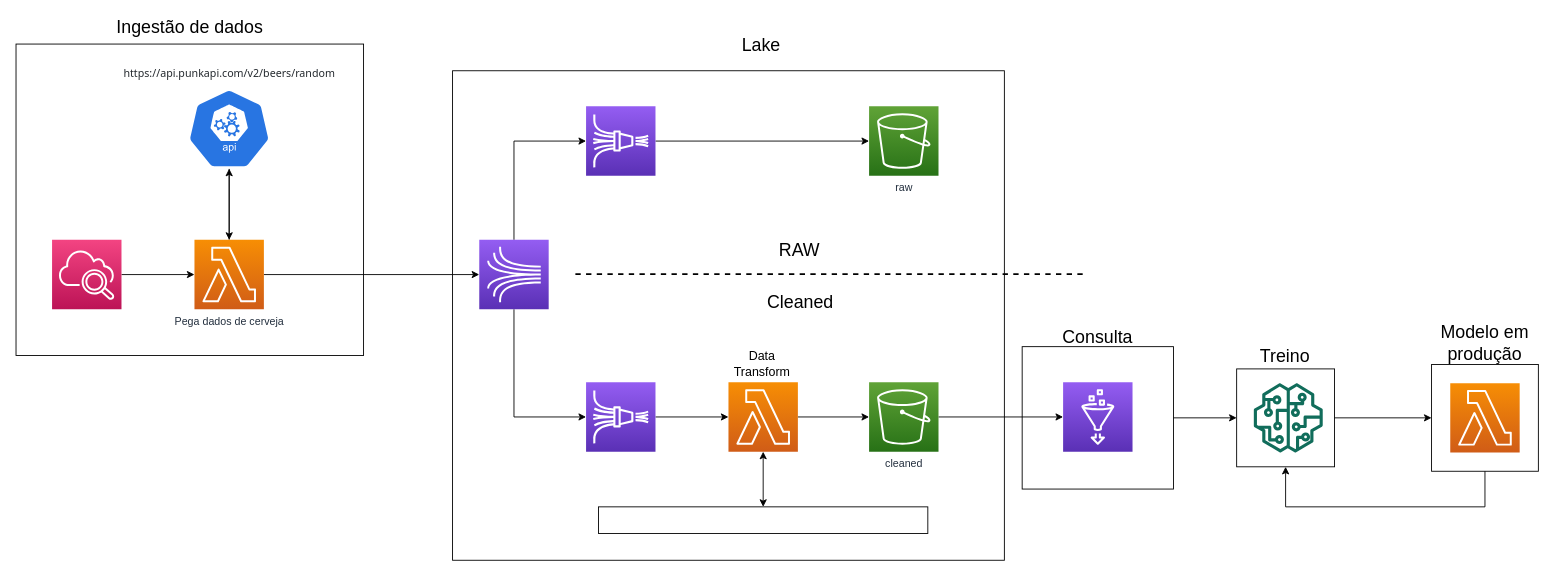
The diagram is 1554 pixels wide and 576 high, and some of its shapes have lost their labels. Each missing label, with the centre of its shape:
id , name , abv , ibu , target_fg , target_og , ebc , srm, ph: pixel 763 520
Triga a cada 5min: pixel 86 274
